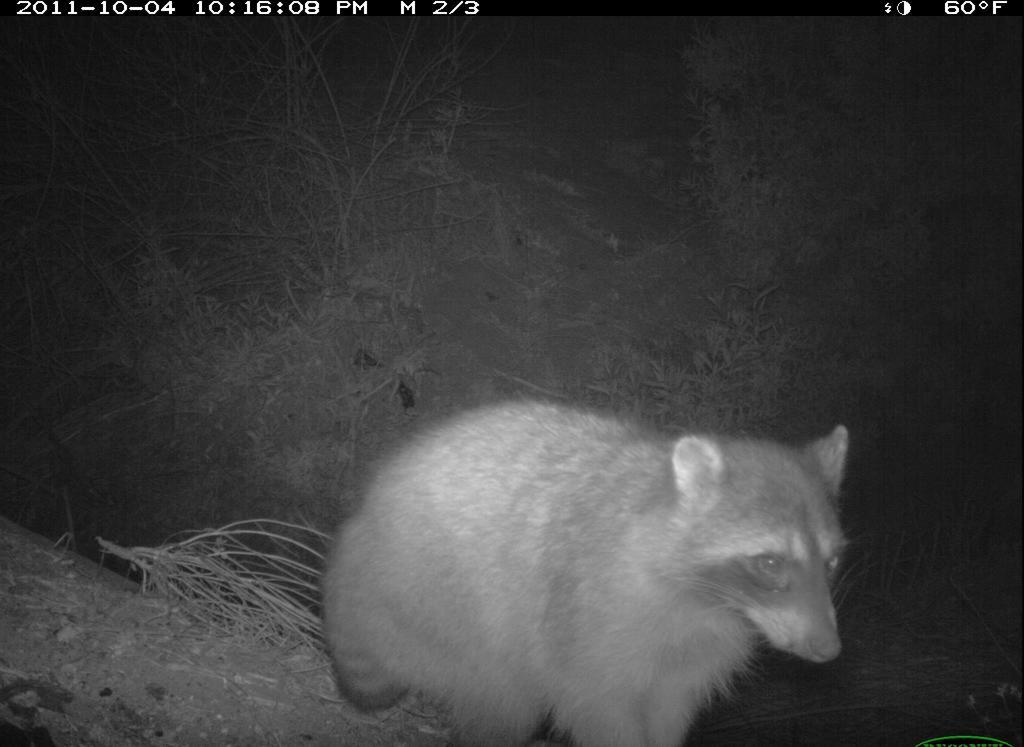raccoon: (237, 368, 802, 747)
